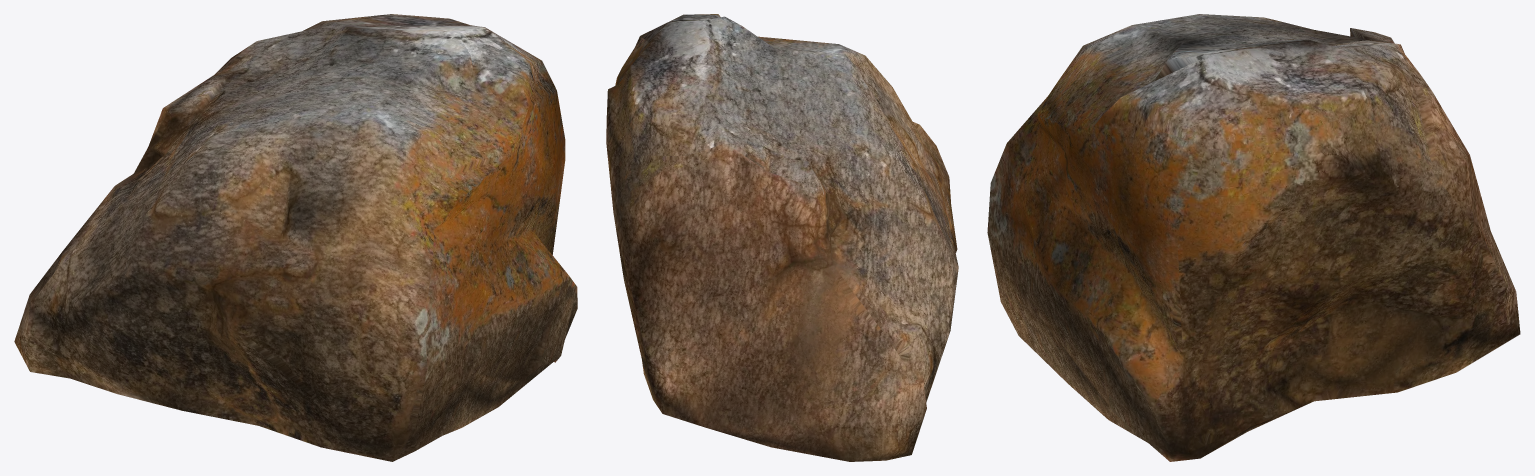
The model's file is desert_boulder_orange_lod1.glb.
3 renders of one model, left to right at view 1: azimuth 30°, elevation 25°; view 2: azimuth 150°, elevation 25°; view 3: azimuth 270°, elevation 25°, orthographic. The views are drawn at different scales.
Visible parts, largest first — view 1: boulder_04; view 2: boulder_04; view 3: boulder_04.
Boxes of the visible parts, x1=… form: boulder_04: x1=14, y1=14, x2=577, y2=461; boulder_04: x1=606, y1=14, x2=958, y2=461; boulder_04: x1=987, y1=14, x2=1520, y2=461.
Size of the model in its own units: 2.51 by 1.88 by 2.47.
Materials: 1 (1 with a texture image).
